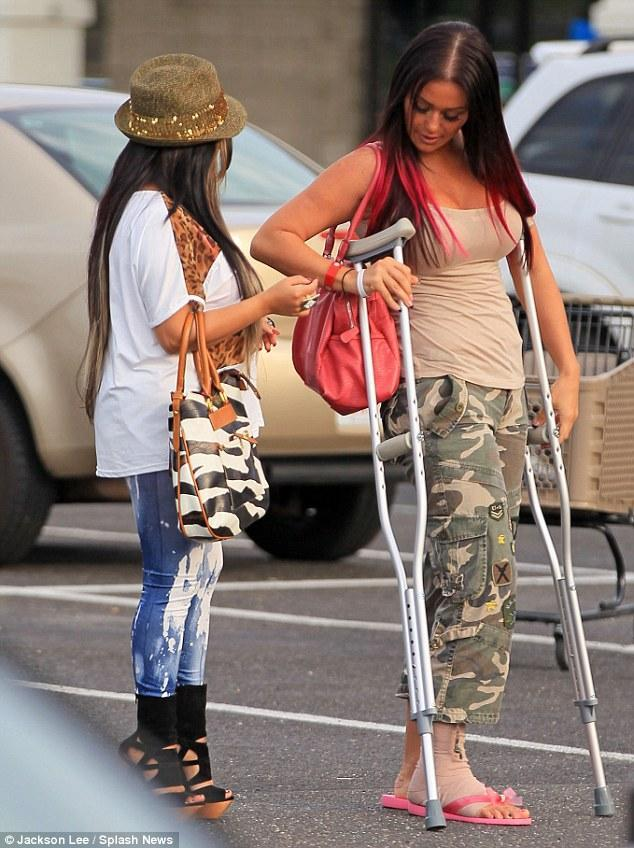crutches: (251, 20, 619, 831)
